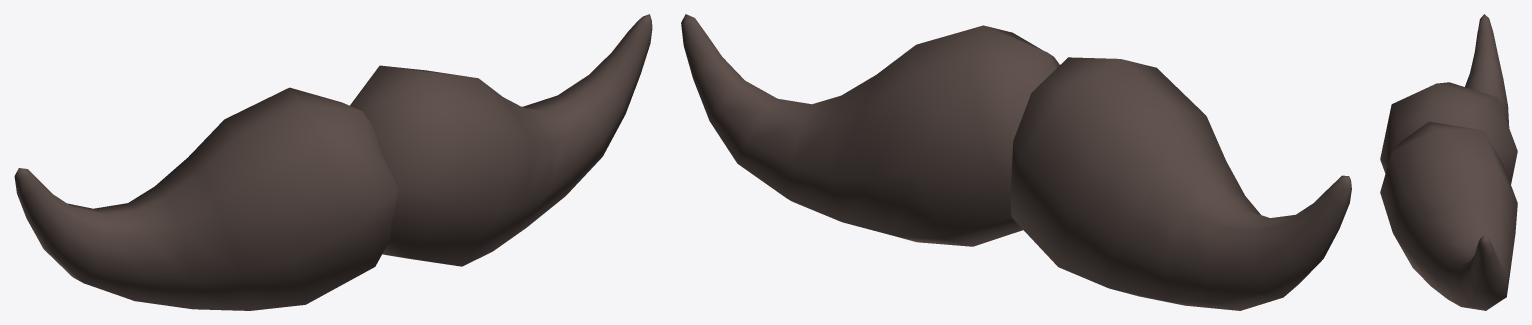
The model's file is Mustache_02.glb.
The picture shows the model from 3 angles, left to right: view 1: azimuth 30°, elevation 25°; view 2: azimuth 150°, elevation 25°; view 3: azimuth 270°, elevation 25°; orthographic projection. The views are drawn at different scales.
Parts seen in each view (by area): view 1: Mustache_02; view 2: Mustache_02; view 3: Mustache_02.
Boxes of the visible parts, x1=… form: Mustache_02: x1=14, y1=14, x2=652, y2=310; Mustache_02: x1=681, y1=14, x2=1351, y2=310; Mustache_02: x1=1380, y1=14, x2=1517, y2=310.
Bounding box in the file's own units: 0.2385 × 0.0713 × 0.0617.
1 material, 1 textured.
